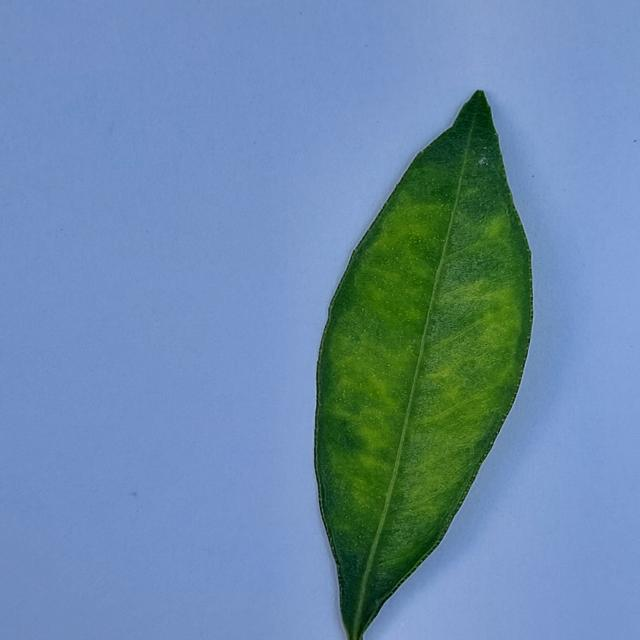greening: (315, 91, 532, 640)
